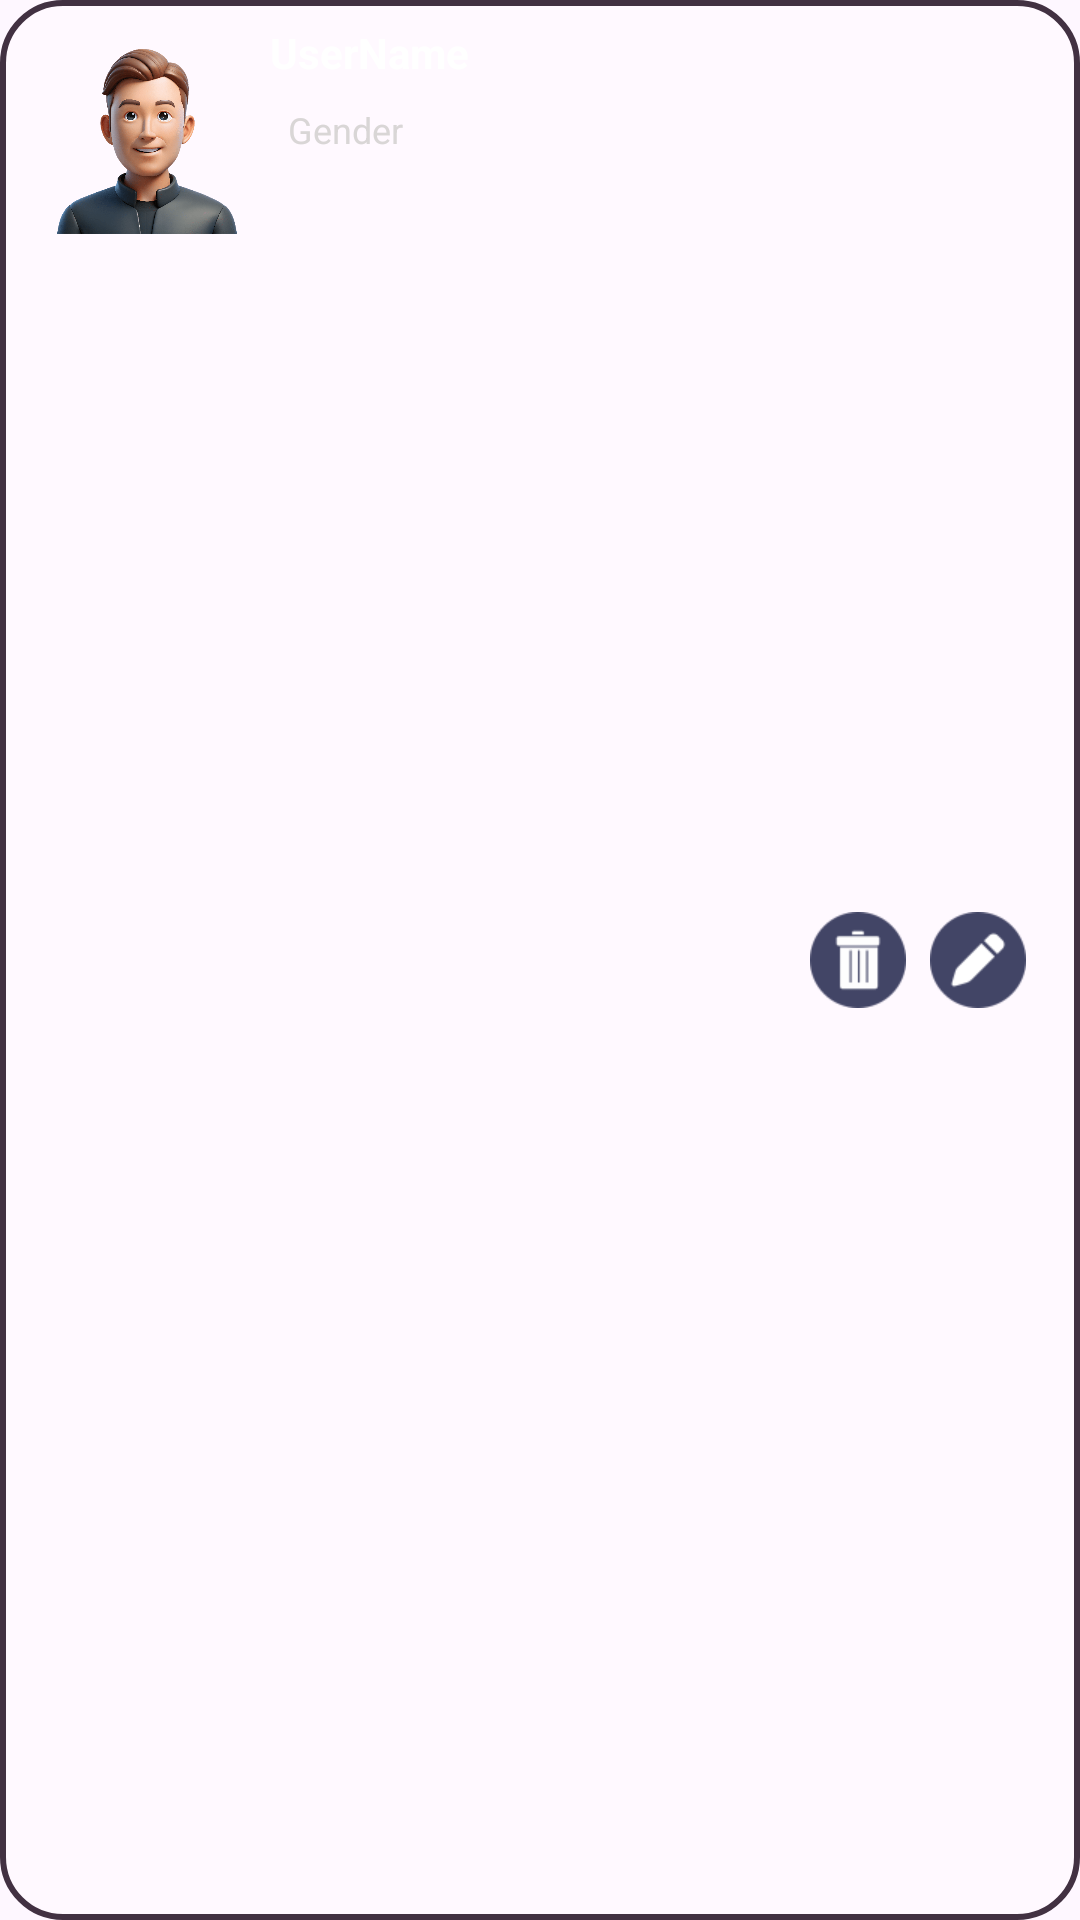

Icons on this 1080*1920 Android screen, each with the point to tap as (x,y):
avartauser: (147,141)
edit bin: (978,960)
trash bin: (858,960)
